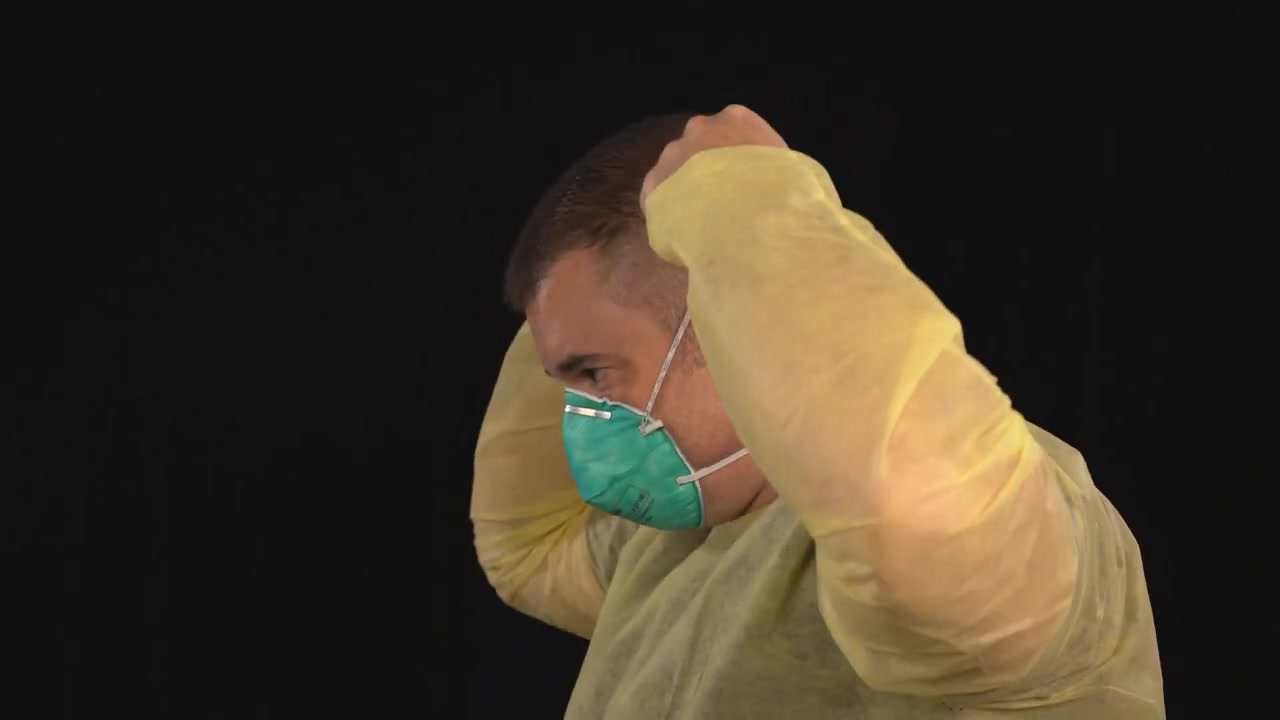Coverall: (465, 274, 1160, 720)
with_mask: (554, 353, 713, 548)
